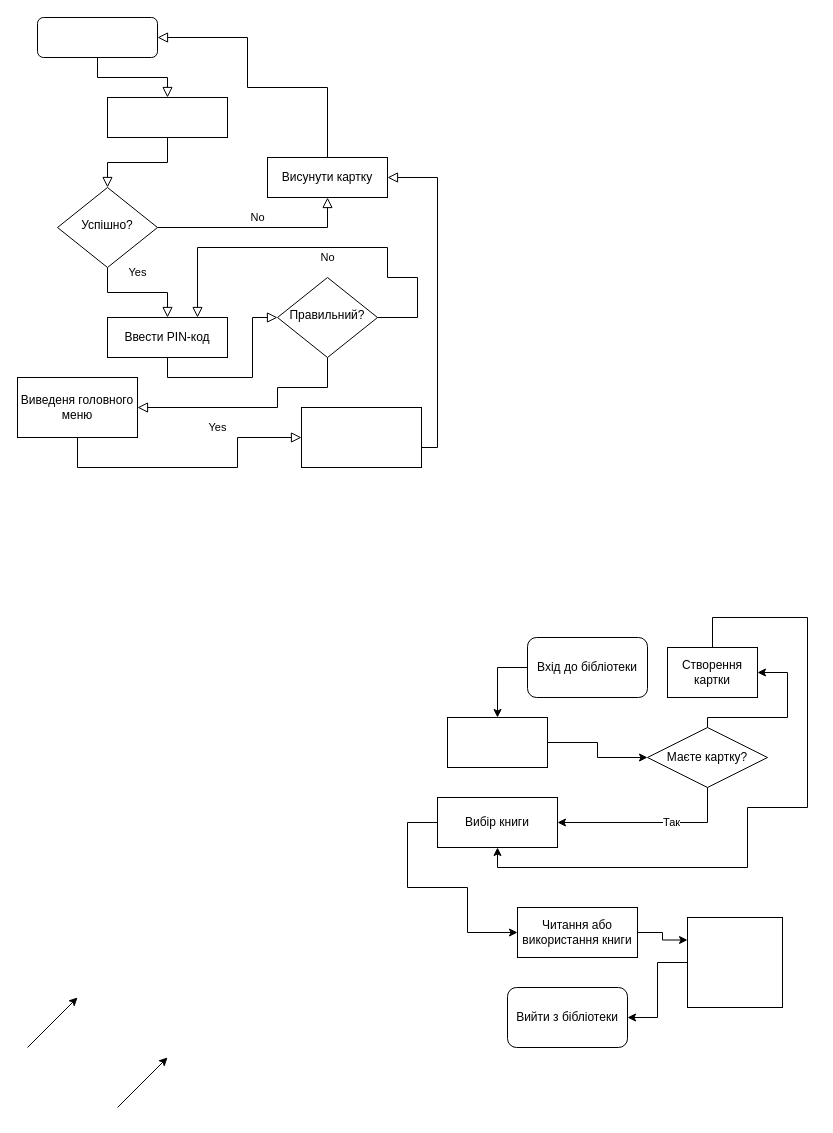
This 833x1133 diagram has some shape labels left out. The shapes that lost their labels are listed below. From the top down, each one's centre as x and y in pixels, then its label:
At [97,37]: "Вставити картку".
At [167,117]: "Перевірка картки".
At [361,437]: "Вибір операції".
At [497,742]: "Реєстрація".
At [734,962]: "Повернення матеріалів до місця або до контрольного пункту".
